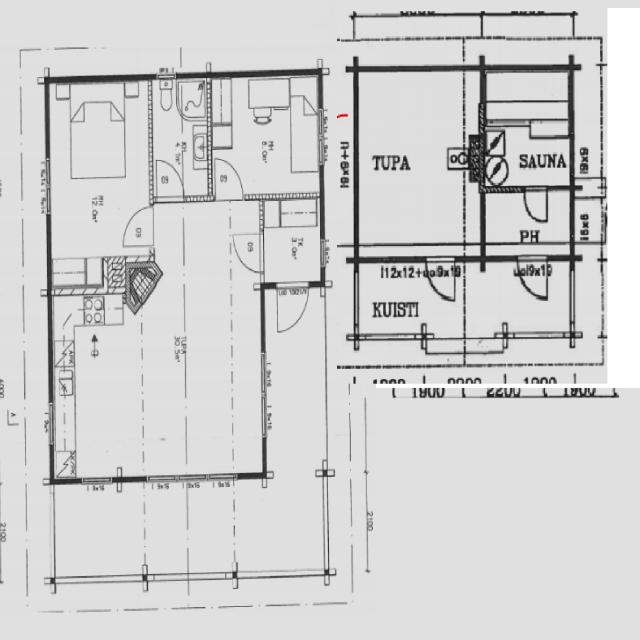door: (276, 283, 308, 333), (517, 257, 548, 307), (425, 257, 456, 306), (120, 206, 152, 247), (235, 234, 266, 273), (215, 157, 242, 200), (156, 157, 183, 200), (525, 185, 548, 223)
